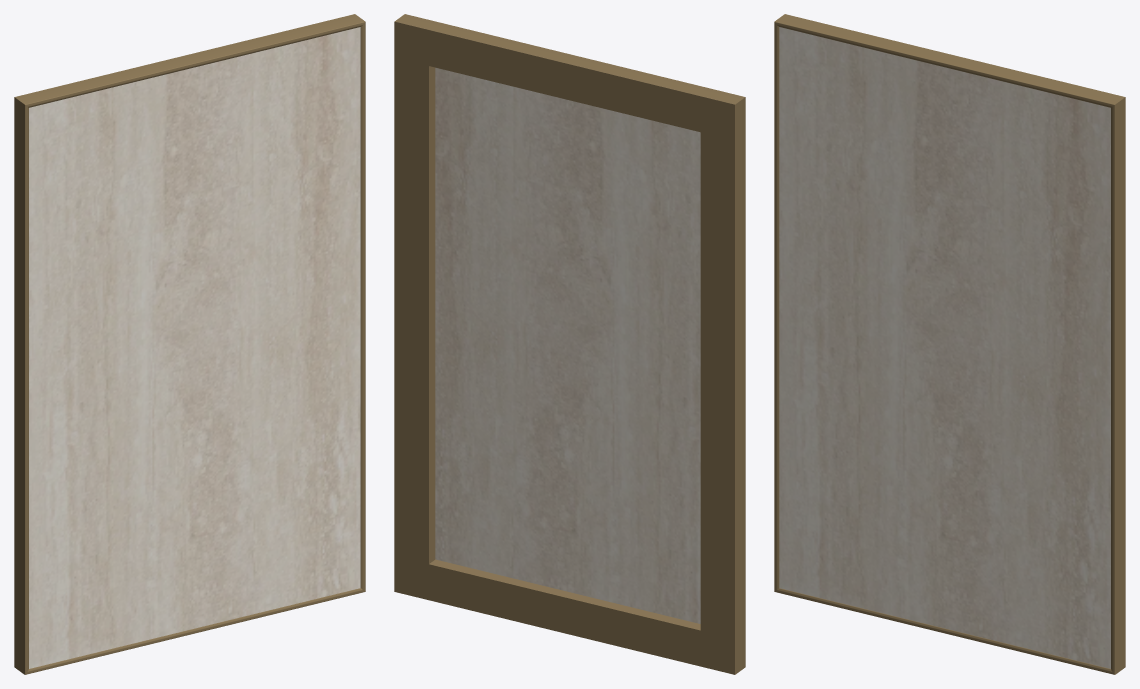
3 renders of one model, left to right at view 1: azimuth 30°, elevation 25°; view 2: azimuth 150°, elevation 25°; view 3: azimuth 330°, elevation 25°, orthographic.
Parts seen in each view (by area): view 1: Object_node, Extrusion_node_1, Extrusion, Extrusion_node, Extrusion_node_0; view 2: Object_node, Extrusion_node_1, Extrusion_node, Extrusion, Extrusion_node_0; view 3: Object_node, Extrusion_node, Extrusion, Extrusion_node_1, Extrusion_node_0.
Boxes of the visible parts, box(x1,y1,x2,y2) form: Object_node: box(29, 27, 360, 668); Extrusion_node_1: box(14, 97, 28, 674); Extrusion: box(15, 14, 365, 107); Extrusion_node: box(360, 22, 365, 591); Extrusion_node_0: box(25, 588, 364, 674); Object_node: box(435, 67, 700, 623); Extrusion_node_1: box(700, 97, 745, 674); Extrusion_node: box(394, 22, 435, 591); Extrusion: box(394, 14, 744, 132); Extrusion_node_0: box(395, 559, 734, 674); Object_node: box(779, 27, 1110, 668); Extrusion_node: box(1111, 97, 1125, 674); Extrusion: box(774, 14, 1124, 107); Extrusion_node_1: box(774, 22, 779, 591); Extrusion_node_0: box(775, 588, 1114, 674).
Size of the model in its own units: 0.45 by 0.72 by 0.0242.
2 materials, 1 textured.
